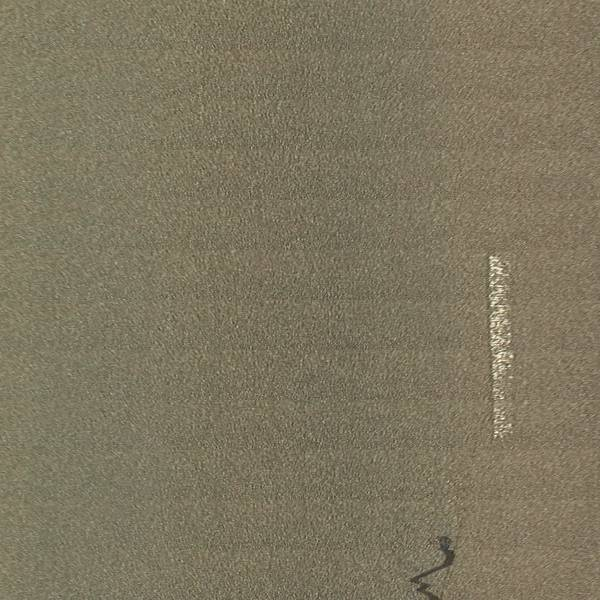road_damage: (406, 533, 459, 600)
